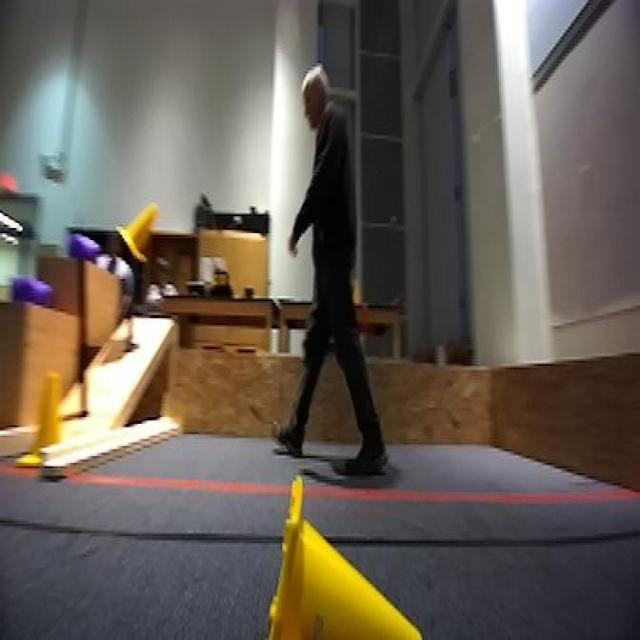frc_cone: (255, 470, 445, 640), (24, 368, 66, 468), (114, 201, 162, 265)
frc_cube: (15, 271, 54, 301), (66, 231, 99, 264)
